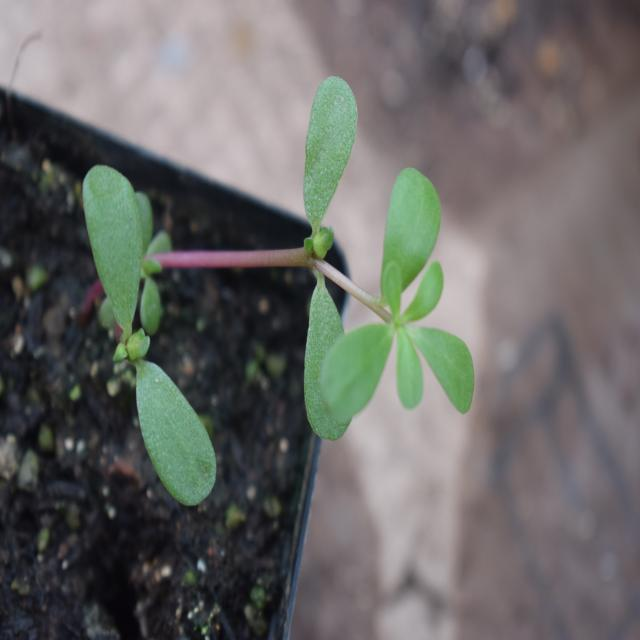purslane: (51, 77, 496, 470)
